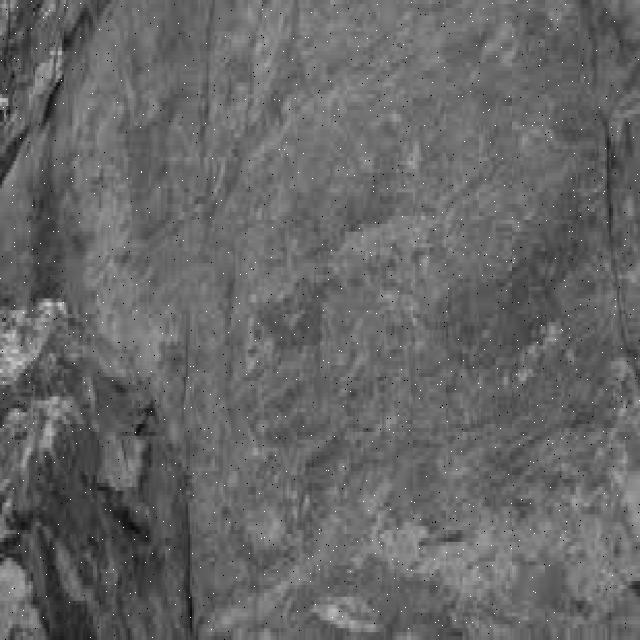Metamorphic: (8, 4, 626, 628)
